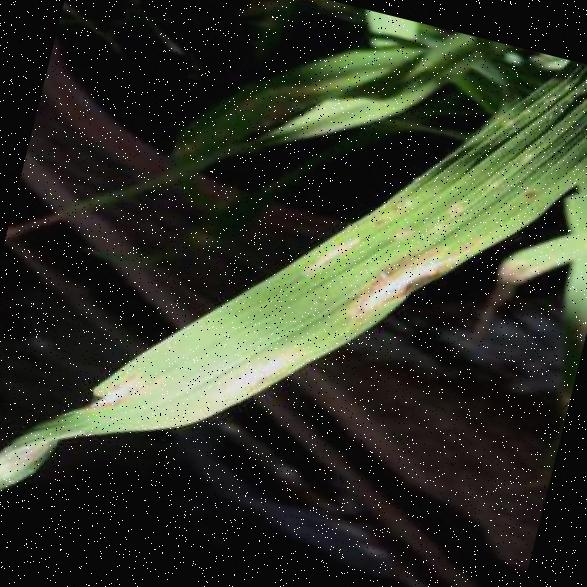Leaf_smut: (340, 208, 471, 336)
